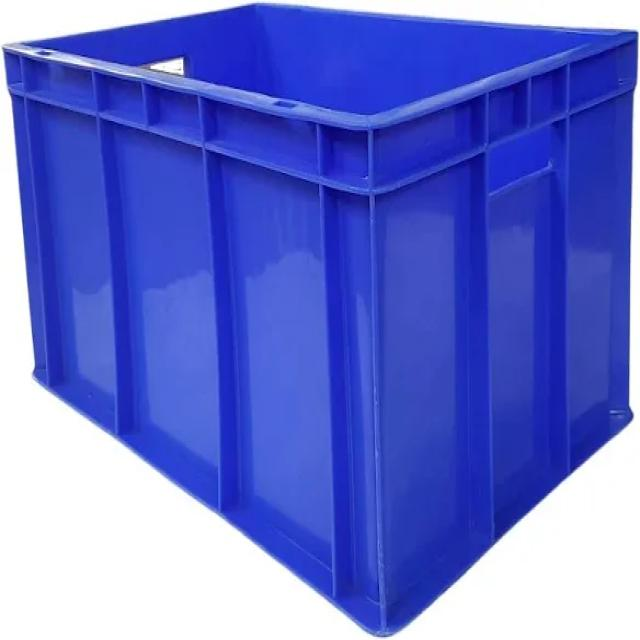plastic_box: (0, 8, 640, 634)
